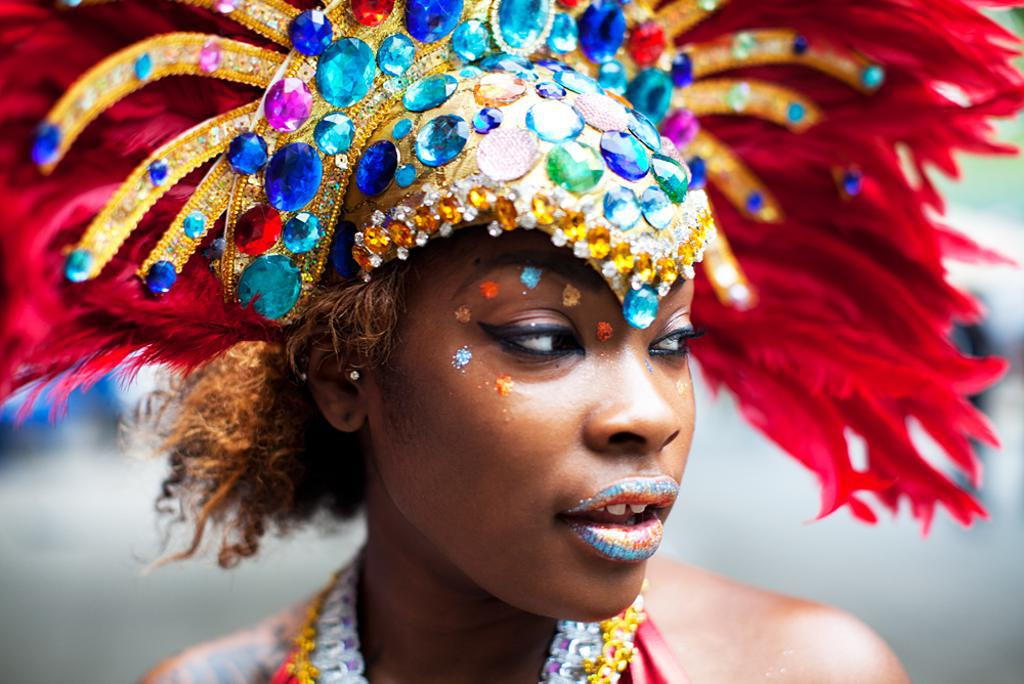face: (373, 167, 701, 625)
